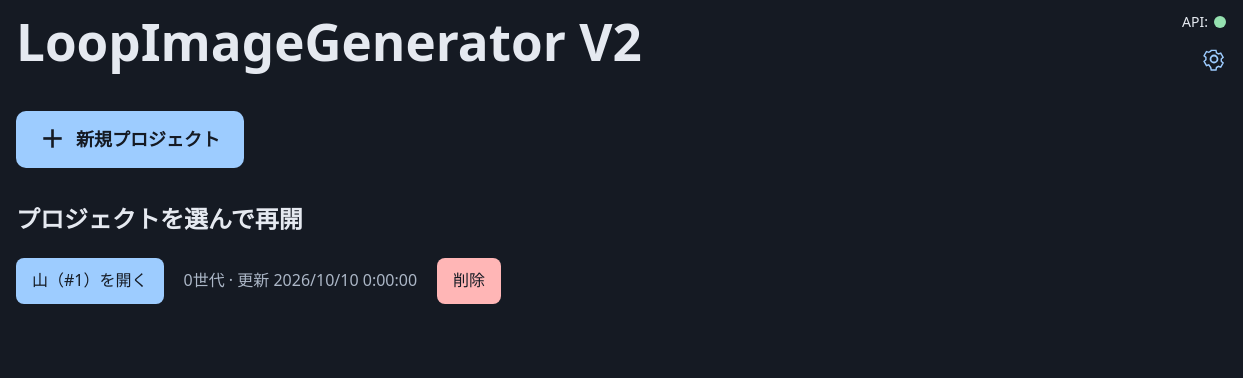
keeps a project listed when deletion is rejected during generation
Click the button with aria-label "山（#1）を削除": (469, 281) [437,258,501,304]
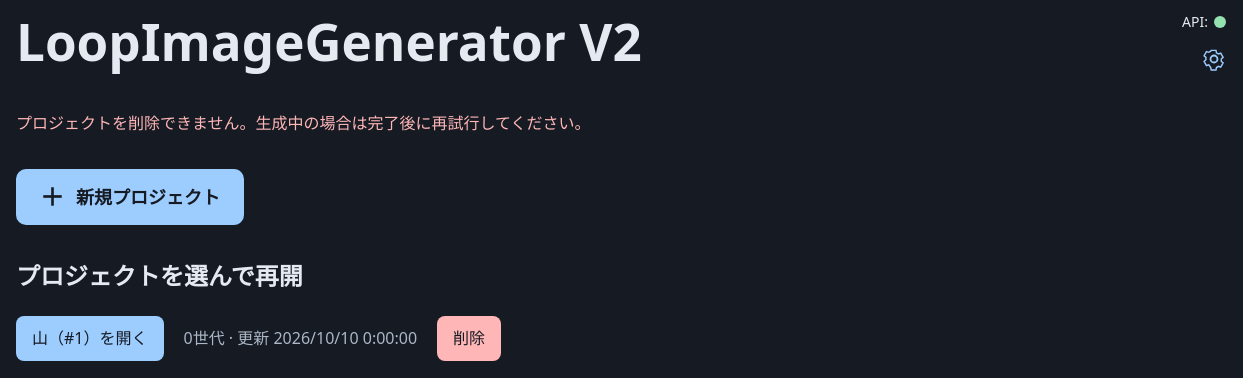
Expected: the button "山（#1）を開く" is shown, [16,316,164,361]
Expected: the message "プロジェクトを削除できません。生成中の場合は完了後に再試行してください。" is shown, [16,112,591,134]
